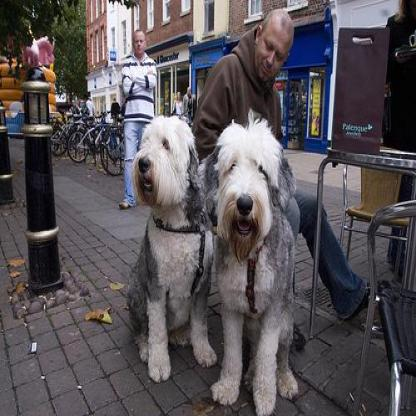Old_English_sheepdog: (210, 122, 298, 412), (126, 115, 216, 382)
